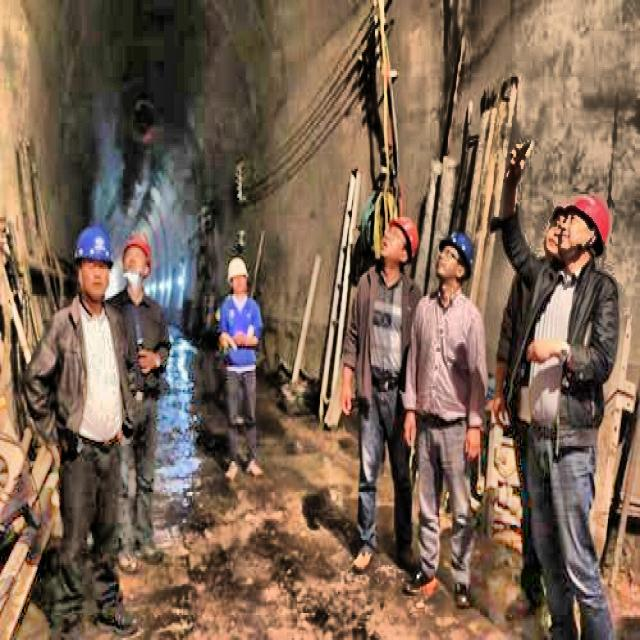helmet: (560, 190, 614, 264), (76, 221, 118, 302), (435, 225, 476, 292), (378, 215, 423, 269), (123, 227, 155, 288), (543, 202, 571, 263), (223, 252, 251, 292)
